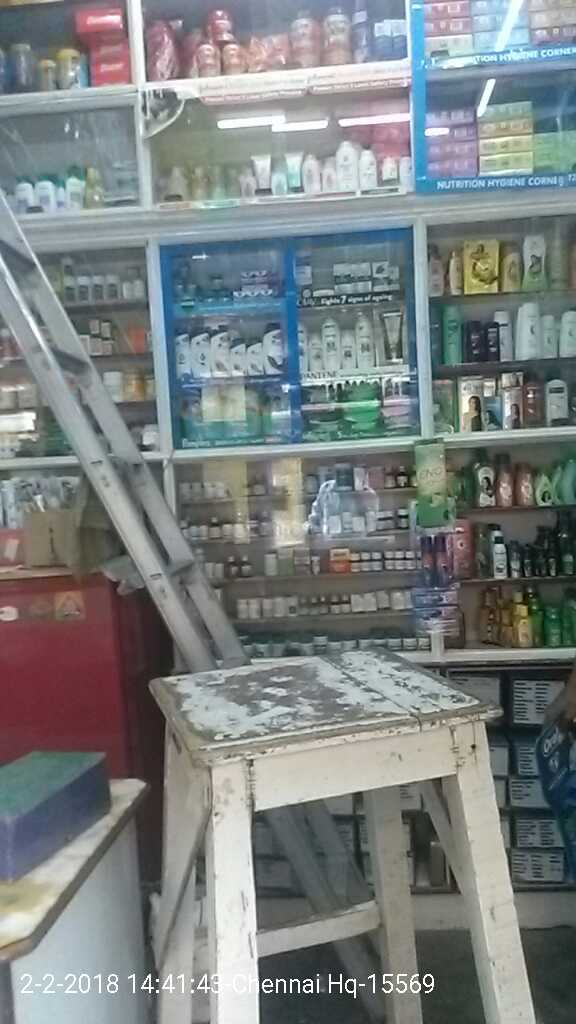vicks: (168, 247, 295, 311)
